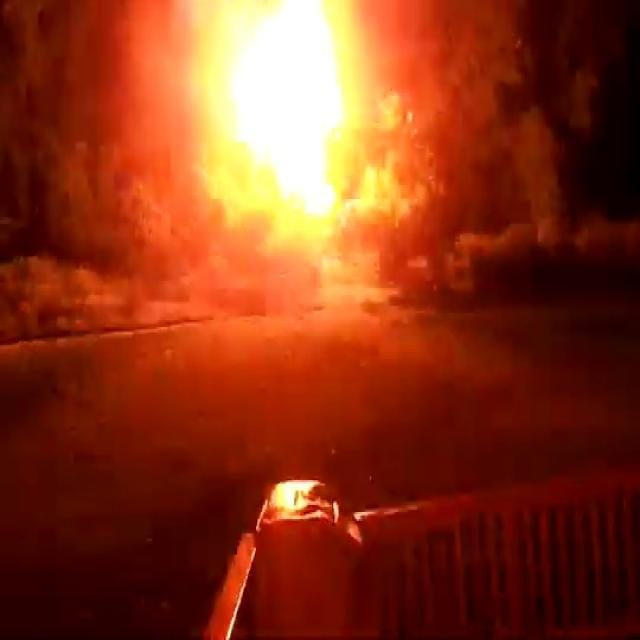Fire: (182, 0, 396, 240)
